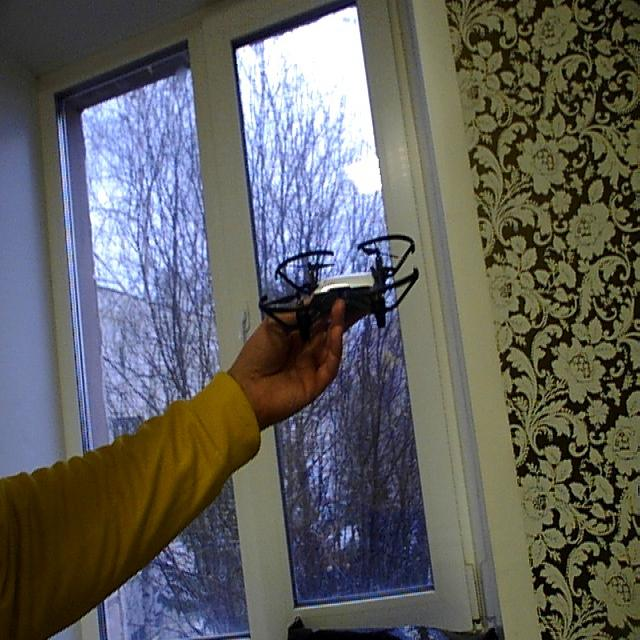drone: (255, 235, 428, 336)
